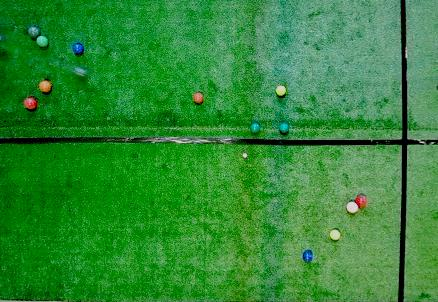blue: (72, 43, 83, 54), (303, 250, 313, 262)
green: (74, 67, 89, 78), (27, 26, 40, 37), (36, 36, 48, 47), (250, 122, 260, 134), (279, 123, 289, 134)
red: (39, 80, 52, 93), (24, 97, 36, 110), (355, 195, 367, 208), (346, 201, 358, 214), (193, 91, 204, 104)
vline: (397, 1, 438, 301)
white: (243, 153, 247, 158)
yellow: (330, 229, 341, 241), (276, 85, 286, 96)
